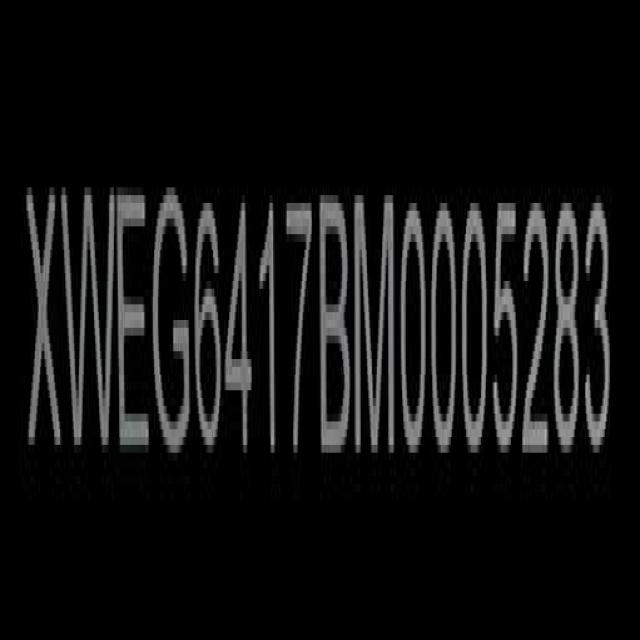0: (400, 199, 431, 459), (432, 202, 458, 458), (461, 203, 487, 457)
1: (259, 190, 278, 464)
2: (524, 210, 551, 462)
3: (583, 197, 610, 452)
4: (223, 195, 254, 462)
5: (495, 198, 519, 458)
6: (194, 194, 225, 462)
7: (286, 191, 317, 467)
8: (552, 204, 579, 461)
B: (319, 191, 352, 463)
E: (117, 180, 152, 465)
G: (153, 183, 190, 459)
M: (359, 192, 397, 464)
W: (66, 178, 116, 463)
X: (28, 174, 65, 464)
